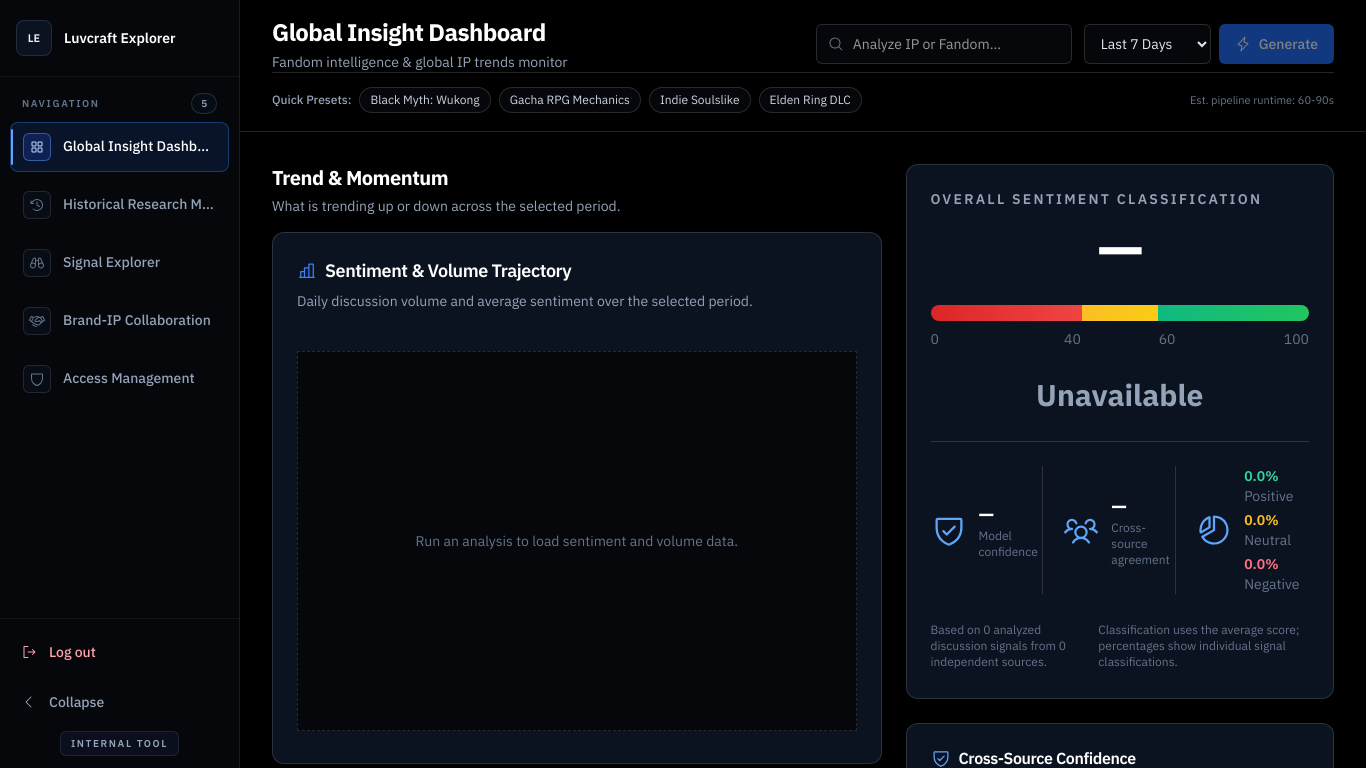
Test case: End-to-End Frontend Integration Test Suite › Role-Based Access Control › allows admin to manage user access and update roles with immediate feedback
Note: Navigate to Access & Security
Click the button titled "Access Management" at (120, 379), box [10,354,229,404]
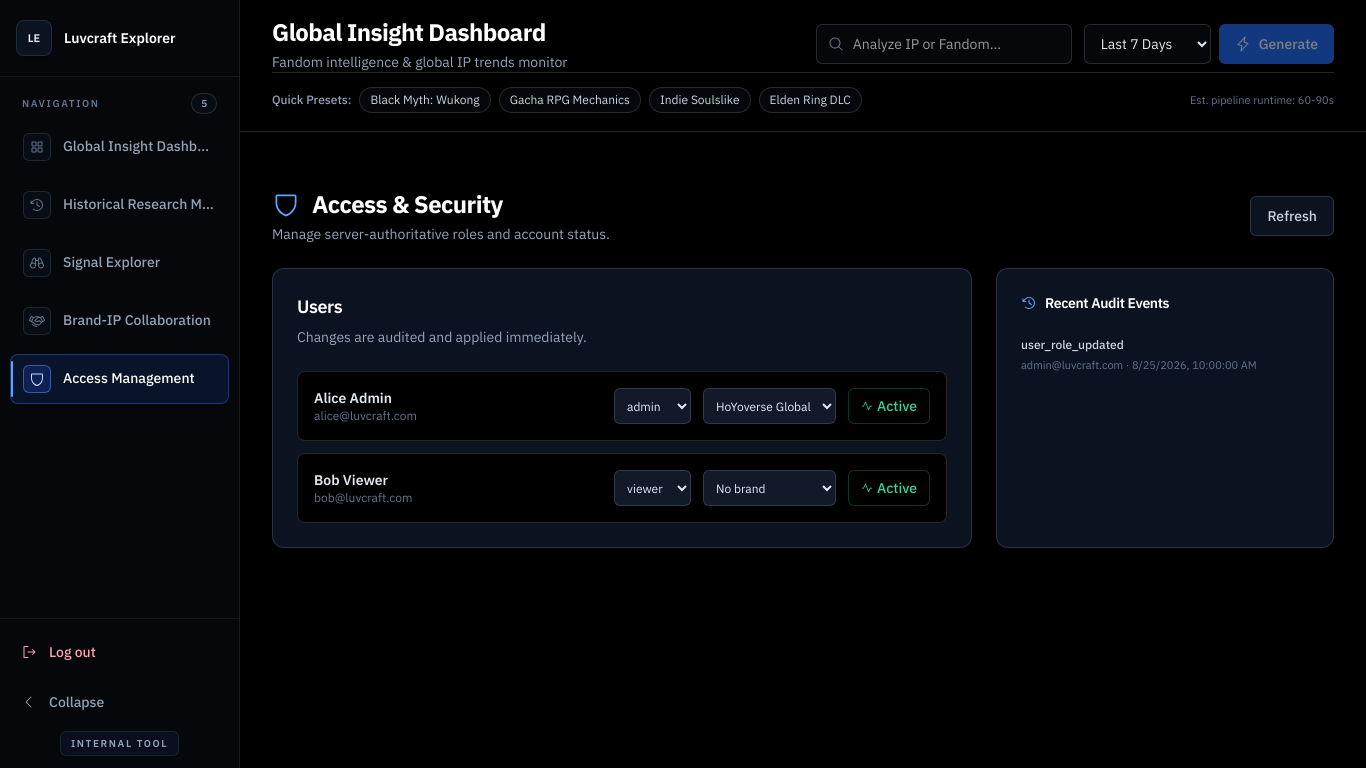
Expected: the heading "Alice Admin" is shown, [314,389,392,407]
Note: Update Bob's role to analyst
Select "analyst" in the dropdown named "Role for bob@luvcraft.com" at (652, 488), box [614,470,691,506]
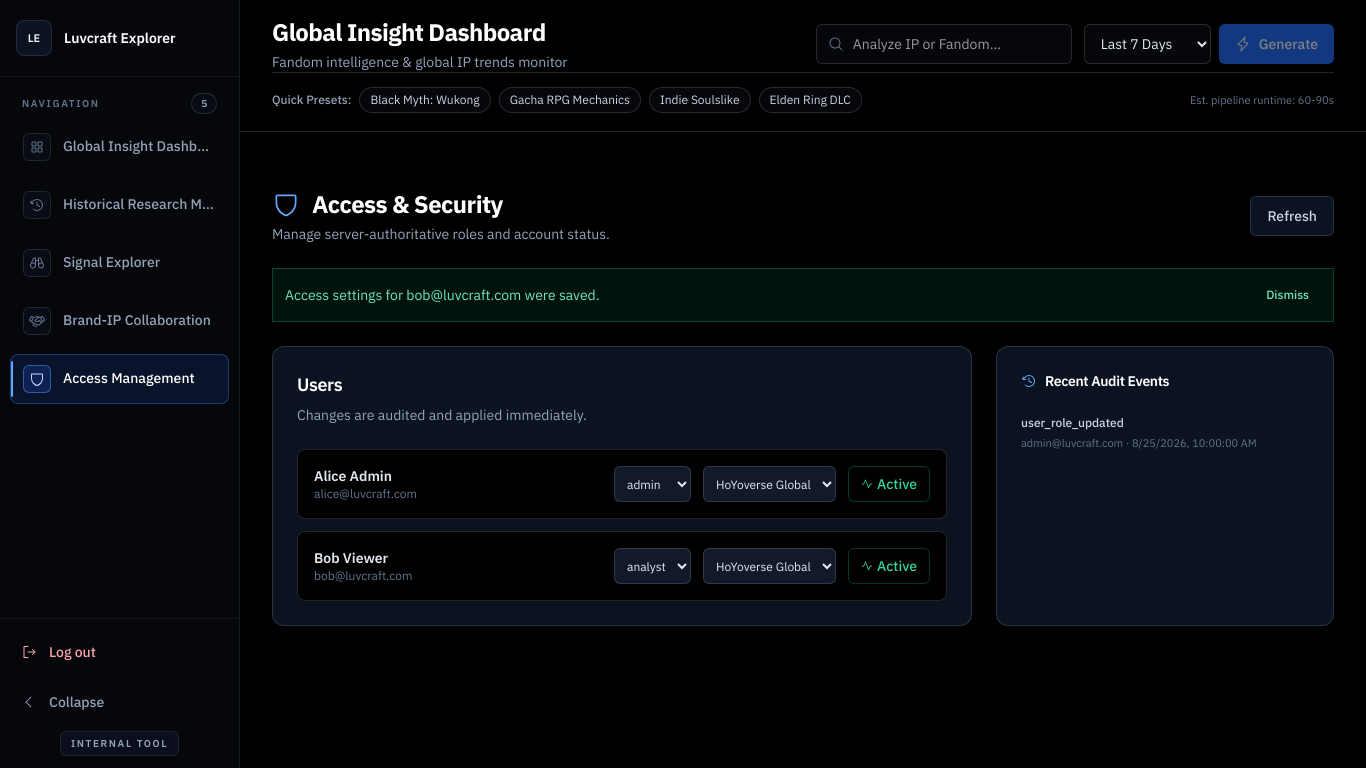
Expected: the text "Access settings for bob@luvcraft.com were saved." is shown, [285,285,600,305]
Note: Dismiss success banner
Click the button "Dismiss" at (1288, 295), box [1254,281,1321,309]
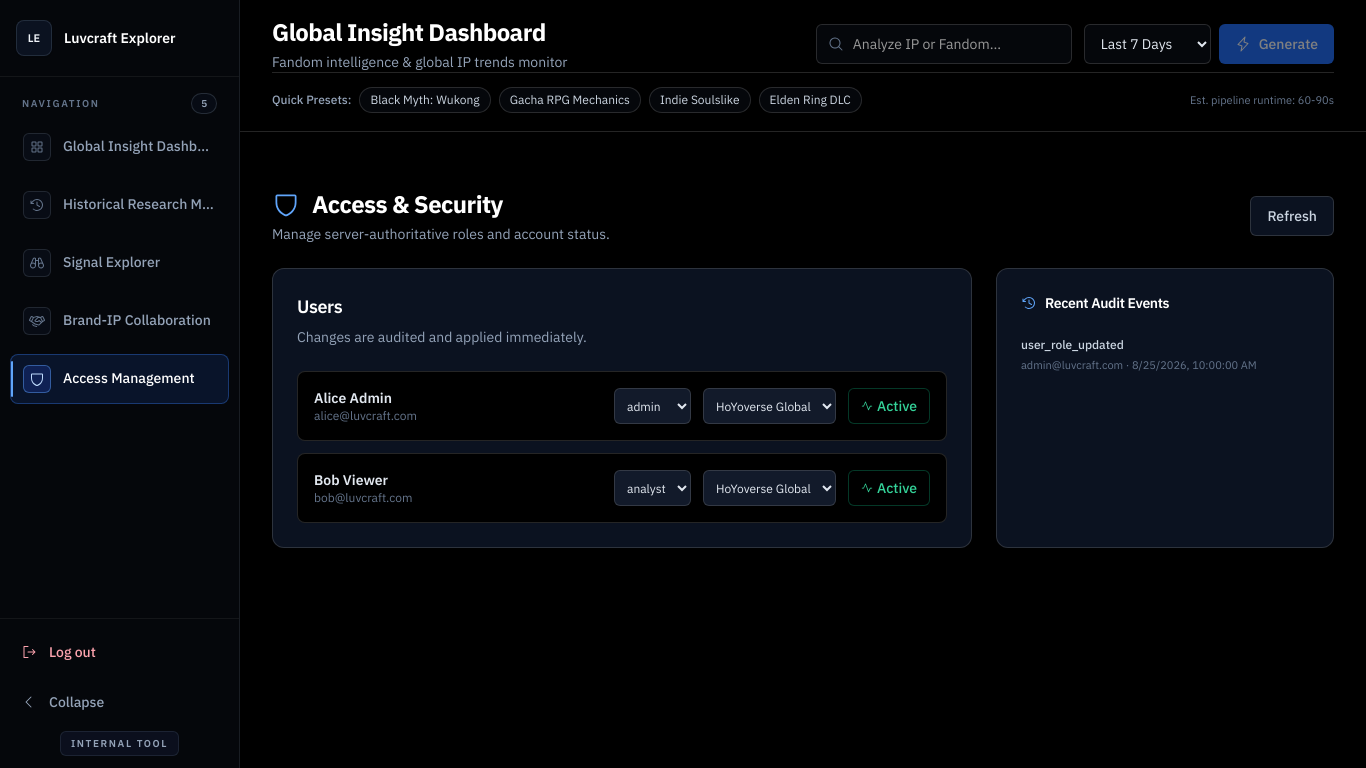
Expected: the text "Access settings for bob@luvcraft.com were saved" is gone
